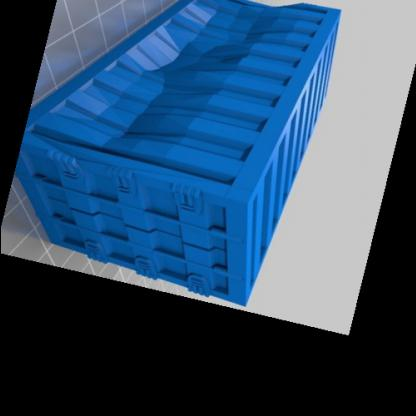Damage: (107, 11, 274, 131)
